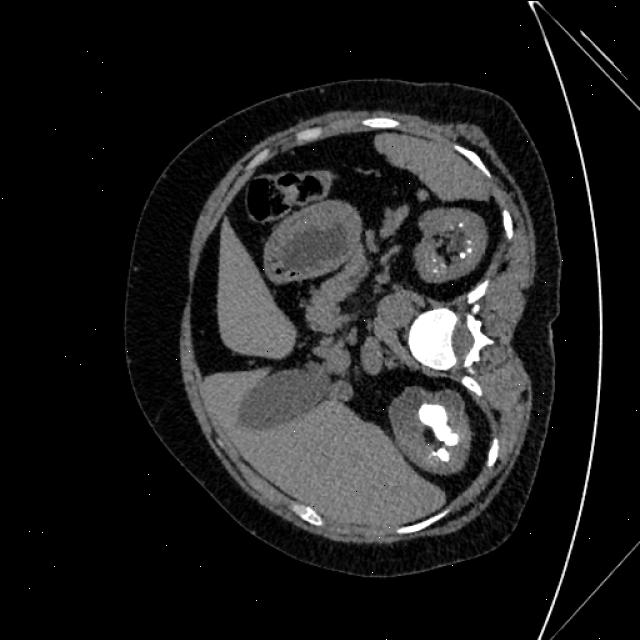kidneystone: (419, 402, 457, 445), (431, 446, 449, 461)
